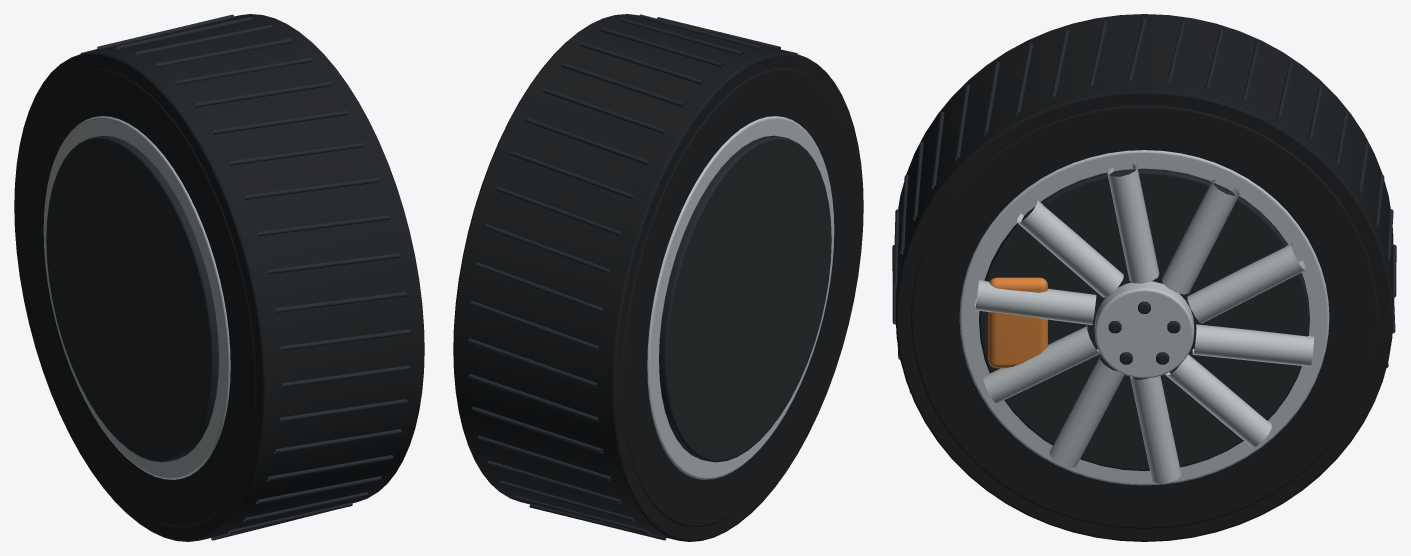
File: wheel.glb
3 views of the same model, side by side, from view 1: azimuth 30°, elevation 25°; view 2: azimuth 150°, elevation 25°; view 3: azimuth 270°, elevation 25° (orthographic).
Parts seen in each view (by area): view 1: Tire, WheelWell, Sidewall, RimLip, Tread_5, Tread_6, Tread_4, Tread_3, Tread_7, Tread_2, Tread_8, Tread_9 (+12 smaller); view 2: Tire, WheelWell, Sidewall, RimLip, Tread_30, Tread_31, Tread_29, Tread_32, Tread_33, Tread_34, Tread_28, Tread_35 (+12 smaller); view 3: Sidewall.001, Tire, WheelWell.001, RimLip.001, Hub, ForgedSpoke_7, ForgedSpoke_8, ForgedSpoke_1, BrakeCaliper, ForgedSpoke_9, ForgedSpoke_6, ForgedSpoke_0 (+4 smaller).
Part boxes in pixels (x1=…): Tire: x1=14, y1=14, x2=424, y2=541; WheelWell: x1=46, y1=135, x2=218, y2=462; Sidewall: x1=20, y1=68, x2=255, y2=527; RimLip: x1=43, y1=116, x2=230, y2=479; Tread_5: x1=243, y1=177, x2=378, y2=199; Tread_6: x1=256, y1=215, x2=390, y2=236; Tread_4: x1=228, y1=142, x2=364, y2=165; Tread_3: x1=211, y1=110, x2=348, y2=134; Tread_7: x1=267, y1=253, x2=399, y2=274; Tread_2: x1=193, y1=81, x2=330, y2=107; Tread_8: x1=275, y1=291, x2=406, y2=312; Tread_9: x1=279, y1=329, x2=409, y2=351; Tire: x1=453, y1=14, x2=863, y2=541; WheelWell: x1=659, y1=135, x2=831, y2=462; Sidewall: x1=622, y1=68, x2=857, y2=527; RimLip: x1=647, y1=116, x2=834, y2=479; Tread_30: x1=467, y1=338, x2=597, y2=387; Tread_31: x1=470, y1=300, x2=598, y2=350; Tread_29: x1=468, y1=374, x2=598, y2=422; Tread_32: x1=476, y1=262, x2=603, y2=312; Tread_33: x1=484, y1=224, x2=610, y2=274; Tread_34: x1=496, y1=186, x2=621, y2=236; Tread_28: x1=471, y1=406, x2=603, y2=453; Tread_35: x1=509, y1=150, x2=634, y2=199; Sidewall.001: x1=911, y1=105, x2=1377, y2=528; Tire: x1=895, y1=14, x2=1393, y2=541; WheelWell.001: x1=979, y1=168, x2=1309, y2=471; RimLip.001: x1=959, y1=150, x2=1329, y2=485; Hub: x1=1094, y1=281, x2=1194, y2=378; ForgedSpoke_7: x1=1192, y1=324, x2=1313, y2=366; ForgedSpoke_8: x1=1187, y1=243, x2=1305, y2=323; ForgedSpoke_1: x1=1017, y1=199, x2=1123, y2=297; BrakeCaliper: x1=988, y1=277, x2=1047, y2=368; ForgedSpoke_9: x1=1162, y1=179, x2=1239, y2=294; ForgedSpoke_6: x1=1165, y1=354, x2=1271, y2=447; ForgedSpoke_0: x1=1107, y1=164, x2=1159, y2=283.
Bounding box in the file's own units: 0.3478 × 0.7187 × 0.719.
